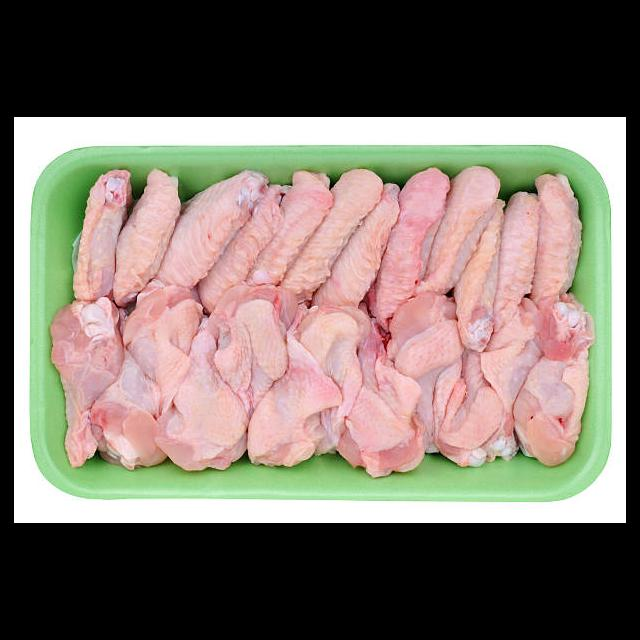chicken: (251, 300, 374, 458), (438, 291, 537, 468), (151, 301, 247, 477), (328, 312, 423, 478), (381, 288, 467, 464), (239, 326, 340, 470), (206, 284, 294, 443), (155, 169, 269, 289), (514, 300, 598, 460), (277, 170, 383, 295), (368, 162, 452, 315), (49, 300, 124, 467), (122, 286, 210, 421), (309, 183, 403, 305), (419, 164, 503, 298), (247, 170, 336, 295), (89, 353, 174, 471), (114, 165, 185, 305), (518, 172, 587, 305), (73, 166, 131, 300), (493, 197, 545, 320)
